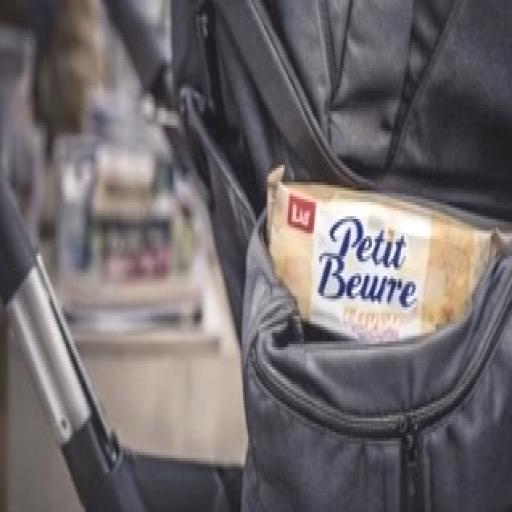petit_beurre: (230, 120, 512, 426)
